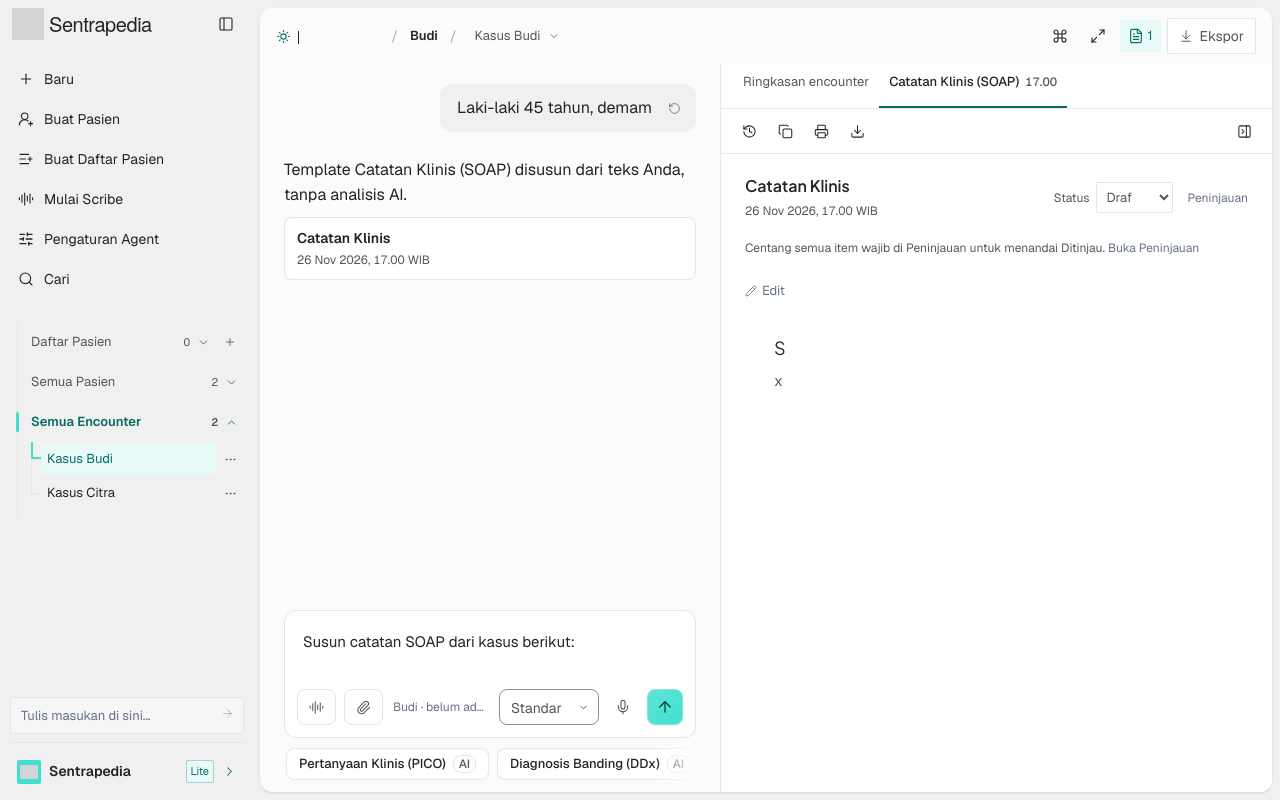
it: workspace UI smoke tests › a held case is dropped from view when another encounter is opened
Earlier steps of the test are not shown.
Replace the text in the text box named "Pertanyaan atau catatan klinis" with "Perempuan 30 tahun, nyeri perut" at [490, 653], box top-left (297, 625), bottom-right (683, 682)
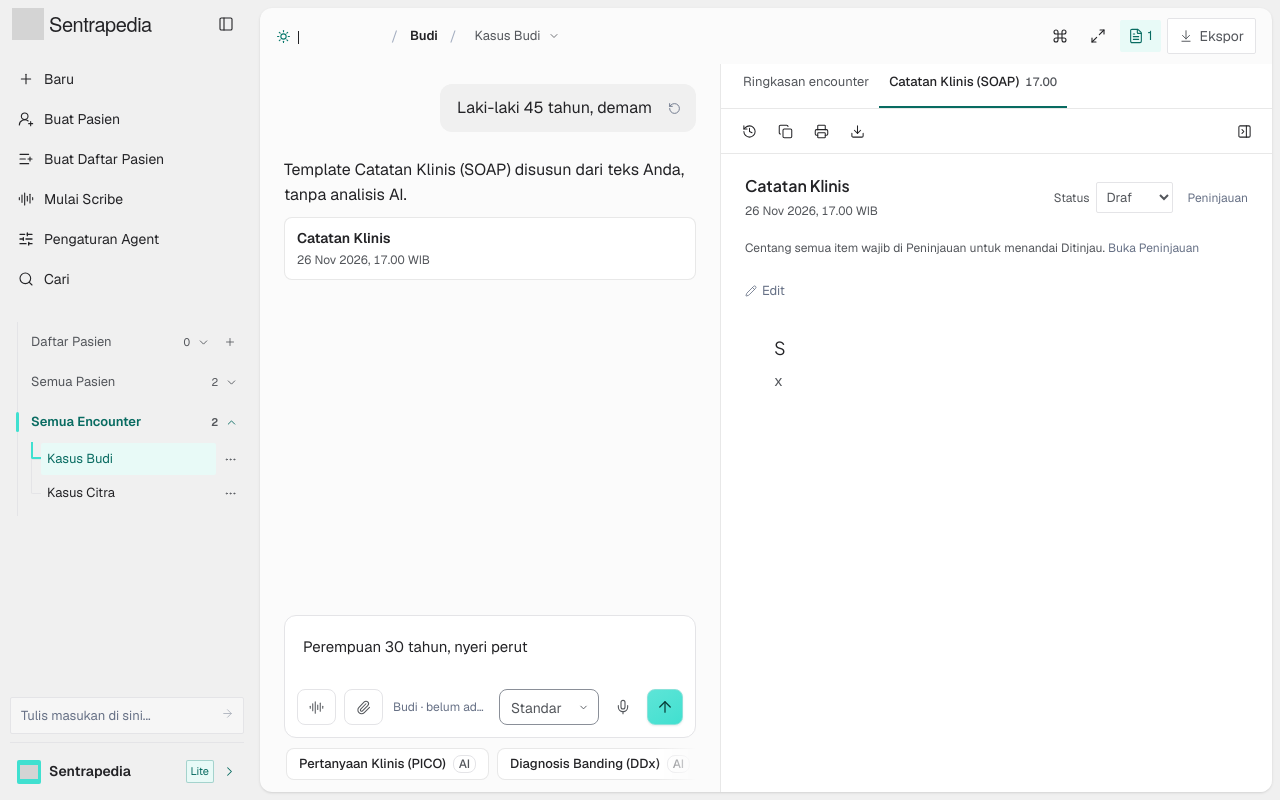
Press Enter in the text box named "Pertanyaan atau catatan klinis", box top-left (297, 630), bottom-right (683, 682)
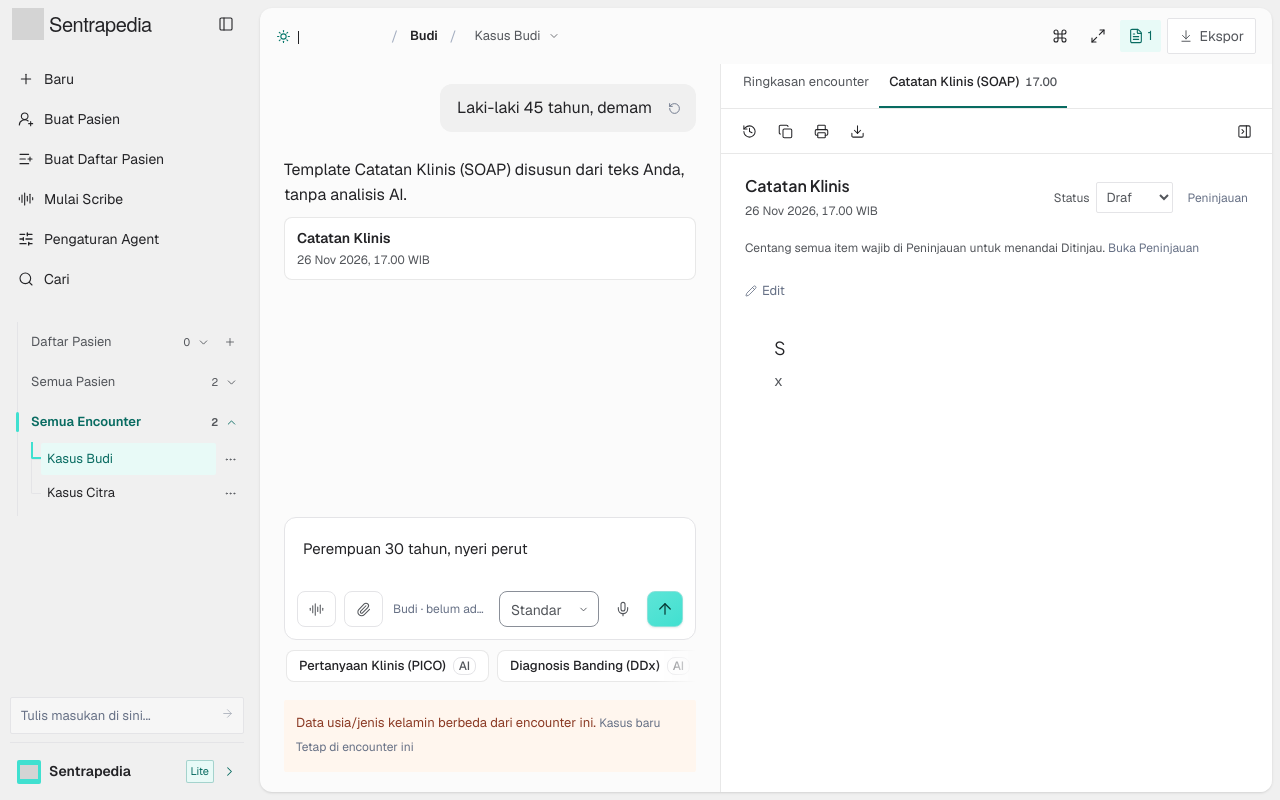
expect the button "Tetap di encounter ini" is shown: met, box top-left (296, 736), bottom-right (414, 760)
Click the button "Kasus Citra" at [128, 493], box top-left (41, 477), bottom-right (216, 509)
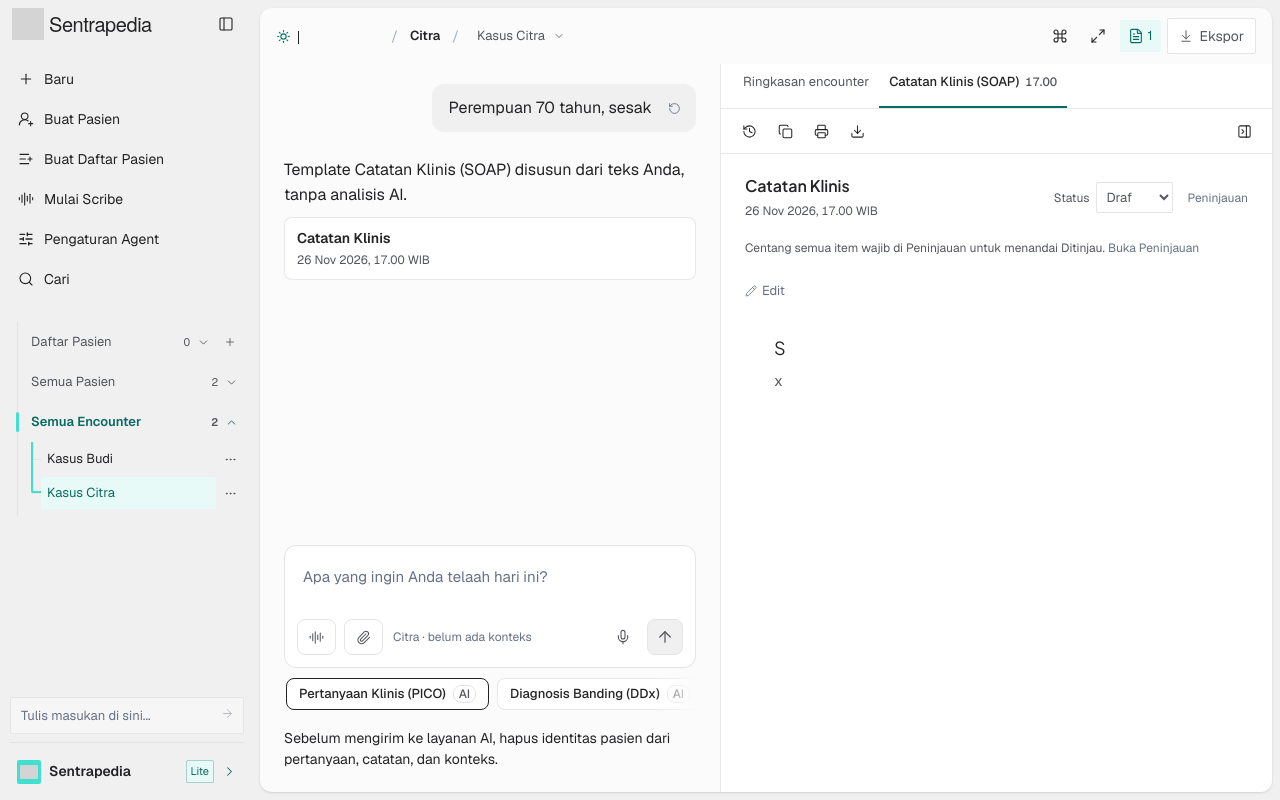
expect the button "Tetap di encounter ini" is gone: met
